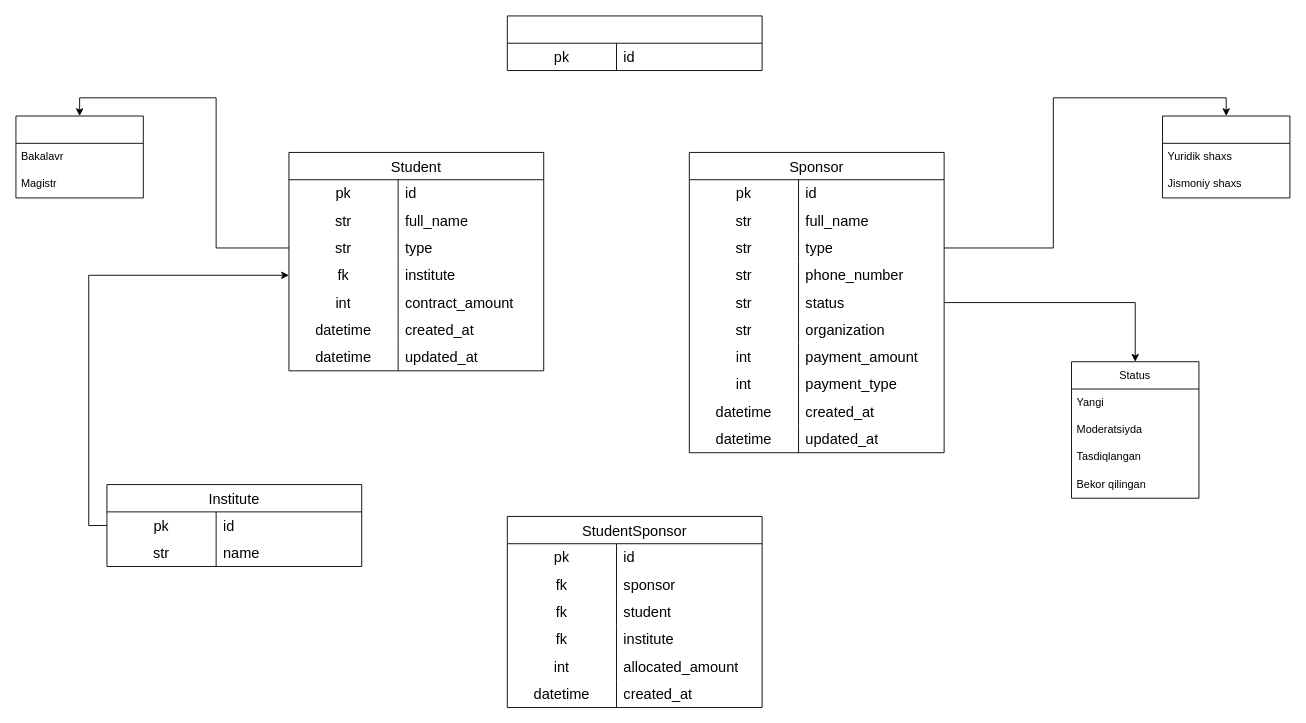
This 1306x723 diagram has some shape labels left out. Each missing label, with the box of its shape:
EducationType: (15, 115, 143, 198)
SponsorType: (1162, 115, 1290, 198)
User: (506, 15, 762, 71)
